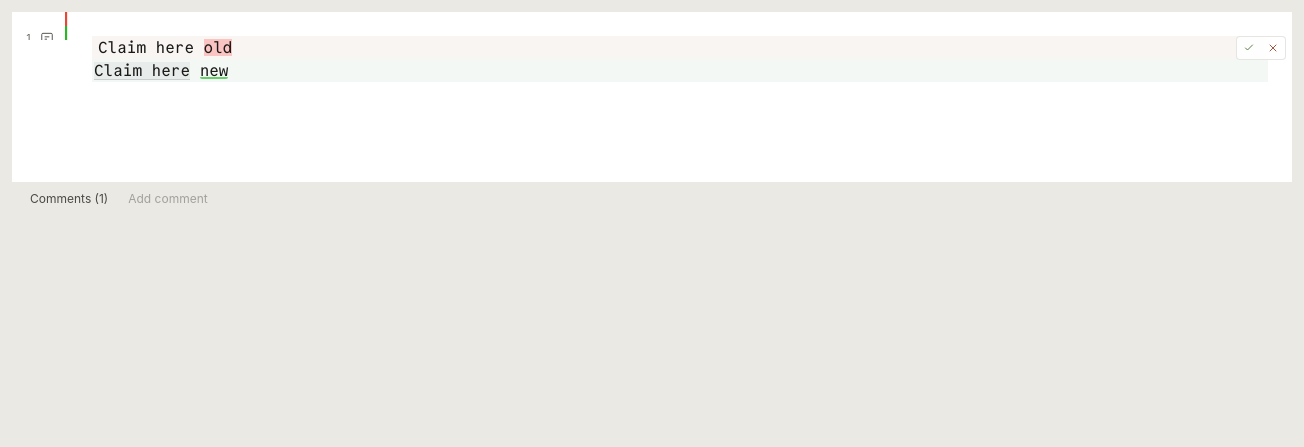
Test case: DiffView › shows clean unified prose with discussions, drafts, and safe reply Undo
The image size is (1304, 447).
Click the button with class "cm-review-comment-marker": coordinates (52, 38) 40,26 -> 64,50
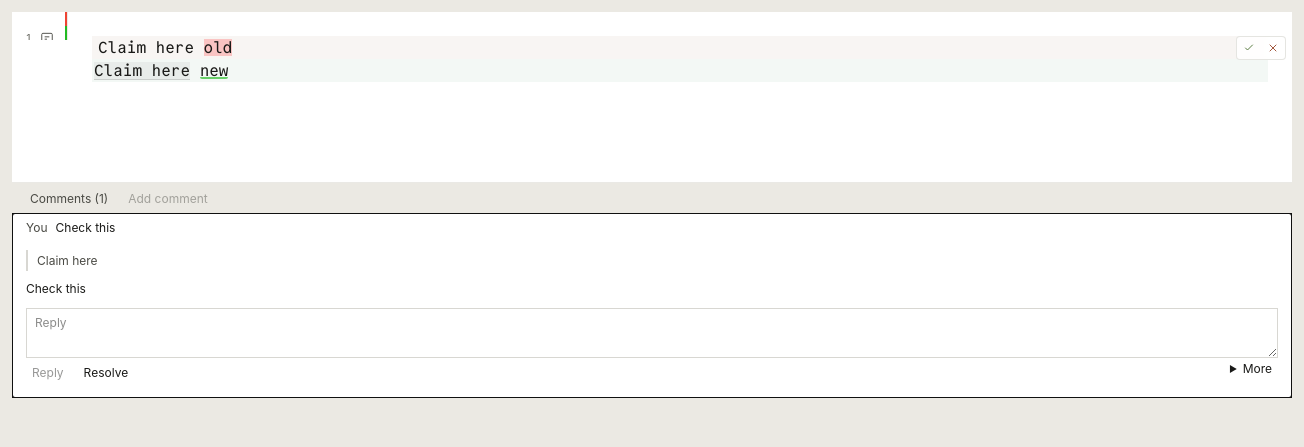
In the text box with placeholder "Reply": coordinates (652, 333) 26,308 -> 1278,358, type "Draft reply"
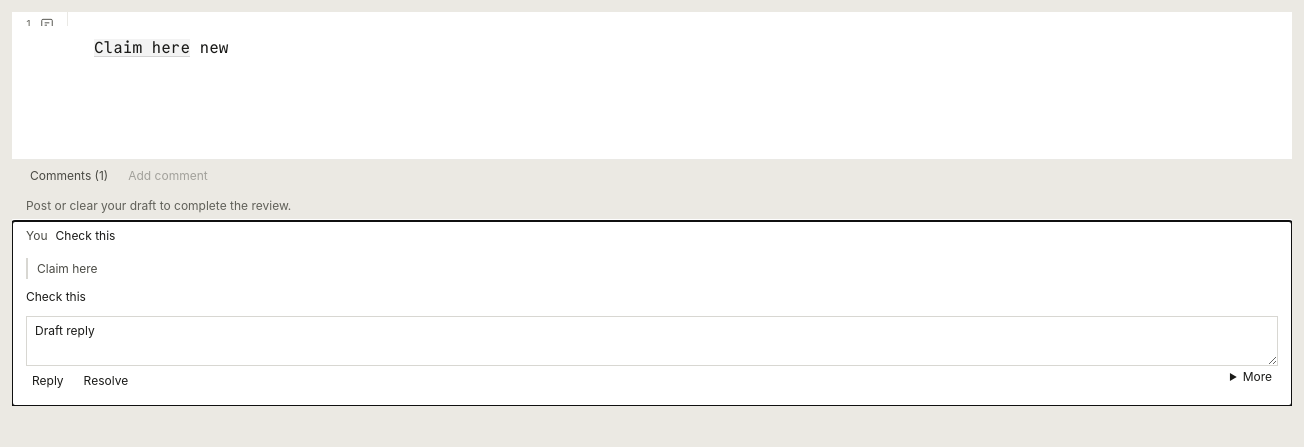
Press z in the text box named "Reply to Check this", box 26,316 -> 1278,366
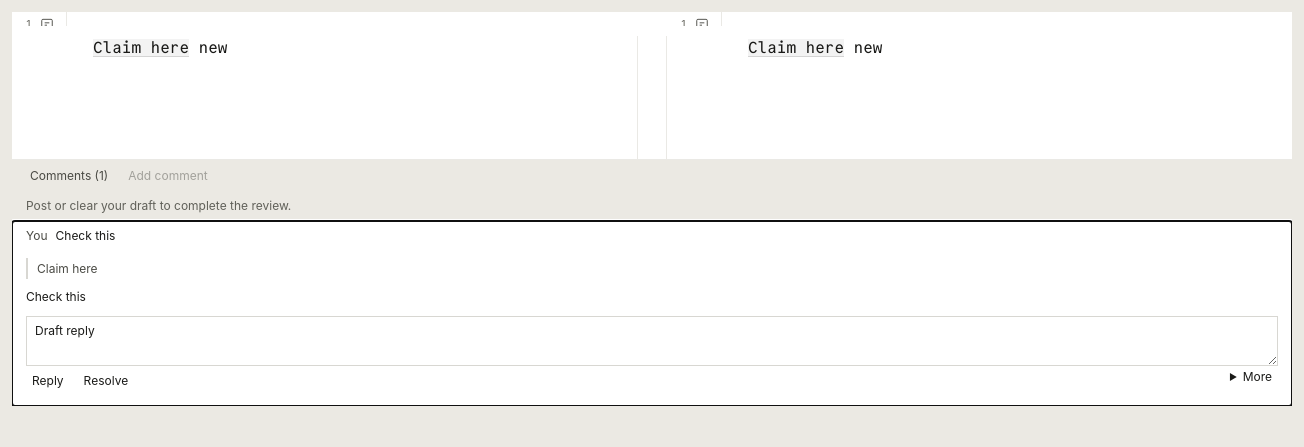
Submit the form, box 26,316 -> 1278,394
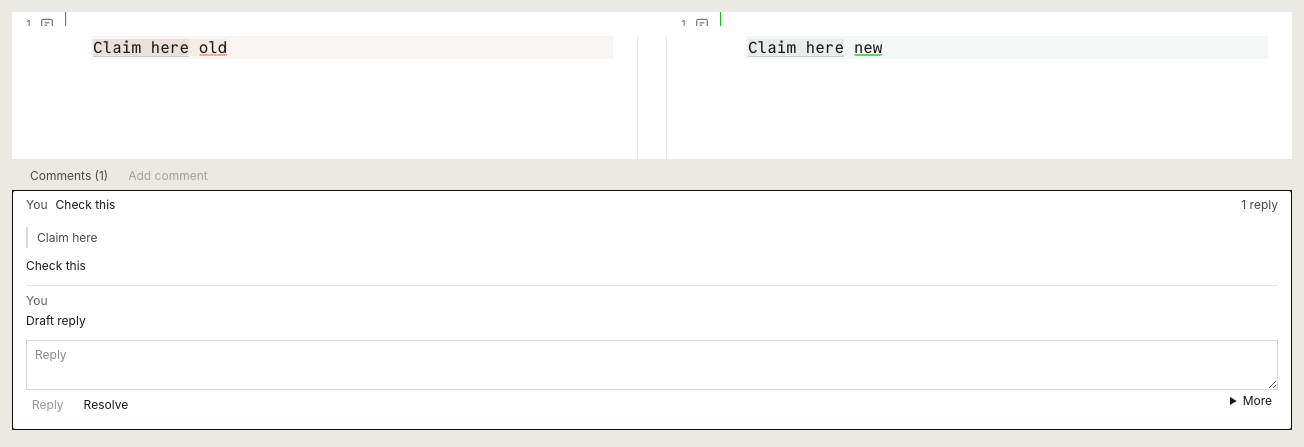
Expected: the text "Draft reply" is shown, 26,313 -> 86,328
